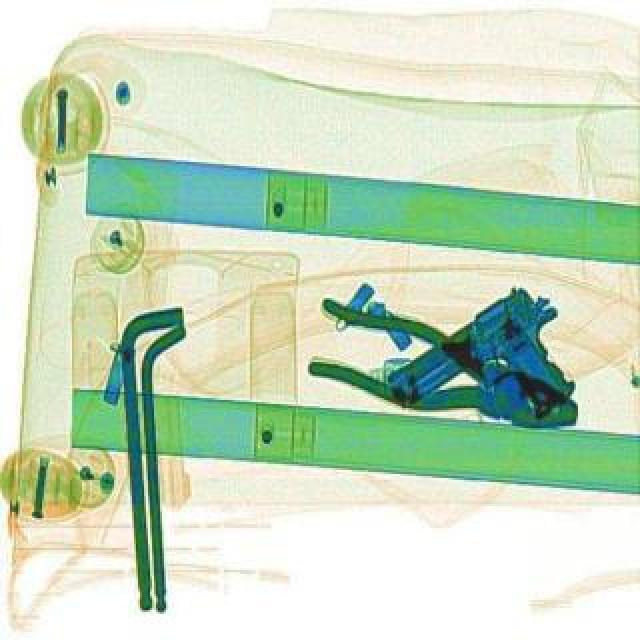gun: (376, 272, 604, 466)
wrench: (294, 288, 594, 452)
